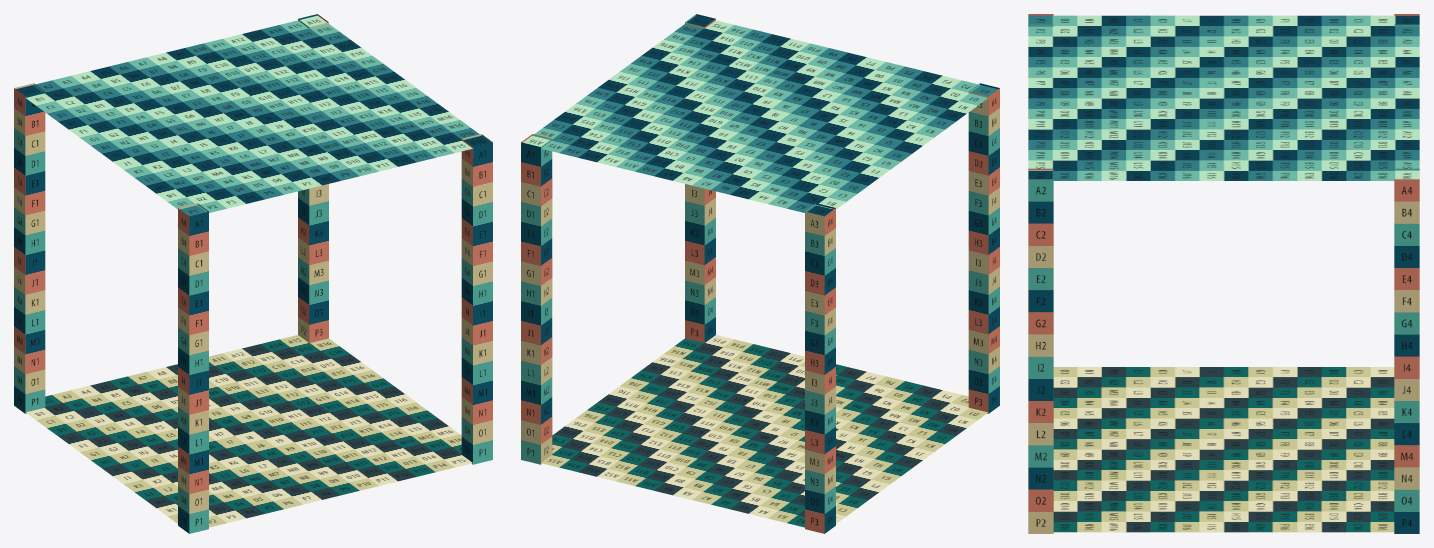
File: Cor_4.fbx
3 views of the same model, side by side, from view 1: azimuth 30°, elevation 25°; view 2: azimuth 150°, elevation 25°; view 3: azimuth 270°, elevation 25° (orthographic). The views are drawn at different scales.
Parts seen in each view (by area): view 1: Cor_4_Ceiling, Cor_4_Floor, Cor_3_PL_Wall; view 2: Cor_4_Ceiling, Cor_4_Floor, Cor_3_PL_Wall; view 3: Cor_4_Ceiling, Cor_4_Floor, Cor_3_PL_Wall.
Part boxes in pixels (x1,y1,x2,y2): Cor_4_Ceiling: (16,15,490,216); Cor_4_Floor: (26,335,472,527); Cor_3_PL_Wall: (14,14,492,533); Cor_4_Ceiling: (523,15,997,216); Cor_4_Floor: (541,335,987,527); Cor_3_PL_Wall: (521,14,999,533); Cor_4_Ceiling: (1028,15,1419,180); Cor_4_Floor: (1053,367,1394,532); Cor_3_PL_Wall: (1028,14,1419,533).
Bounding box in the file's own units: 200 × 200 × 200.
